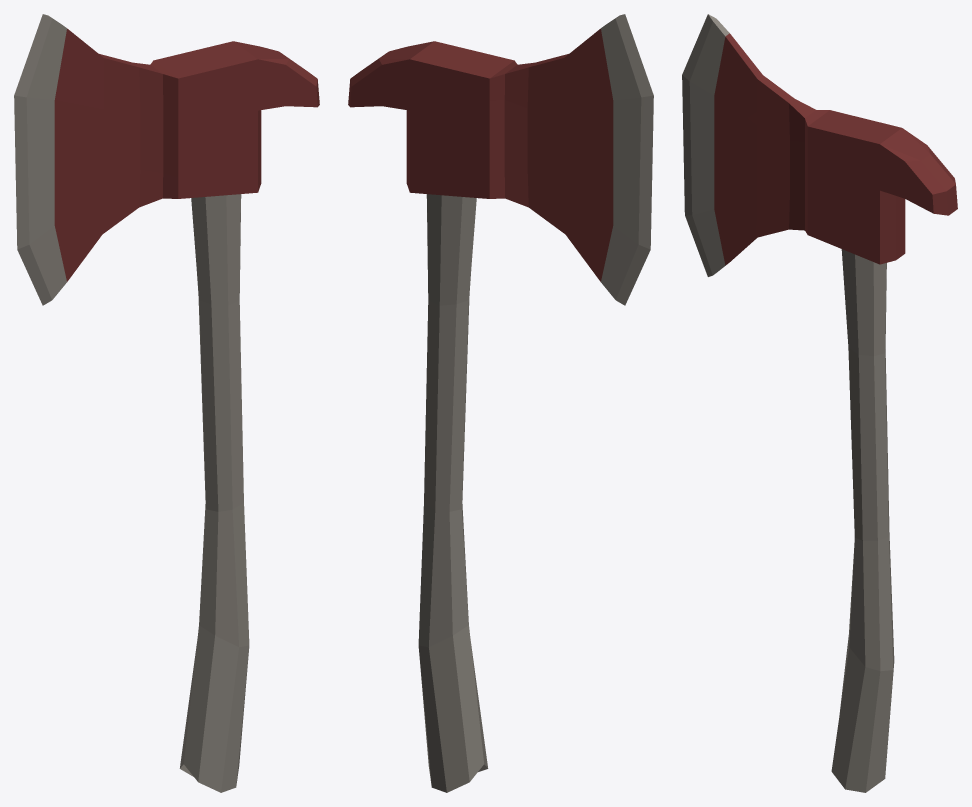
The model's file is stone_axe.glb.
3 renders of one model, left to right at view 1: azimuth 30°, elevation 25°; view 2: azimuth 150°, elevation 25°; view 3: azimuth 330°, elevation 25°, orthographic. The views are drawn at different scales.
Visible parts, largest first — view 1: stone_axe; view 2: stone_axe; view 3: stone_axe.
Part boxes in pixels (x1,y1,x2,y2): stone_axe: (14, 14, 319, 792); stone_axe: (348, 14, 653, 792); stone_axe: (682, 14, 957, 792).
Size of the model in its own units: 0.2636 by 0.68 by 0.0397.
